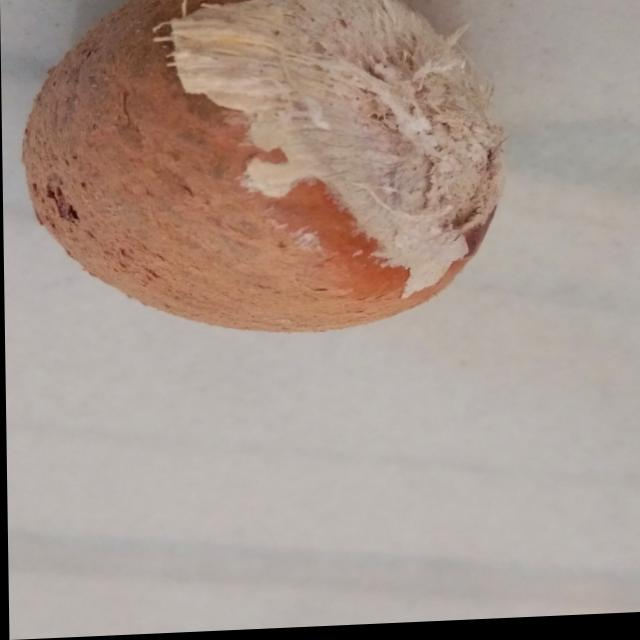good: (7, 0, 528, 358)
